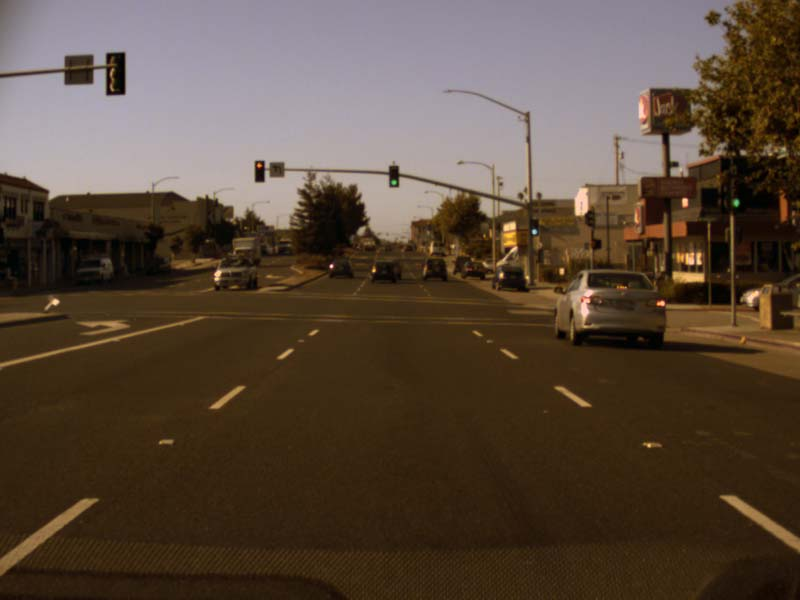Green: (731, 177, 744, 213), (388, 165, 399, 187), (530, 219, 538, 236)
Red: (255, 160, 264, 182)
